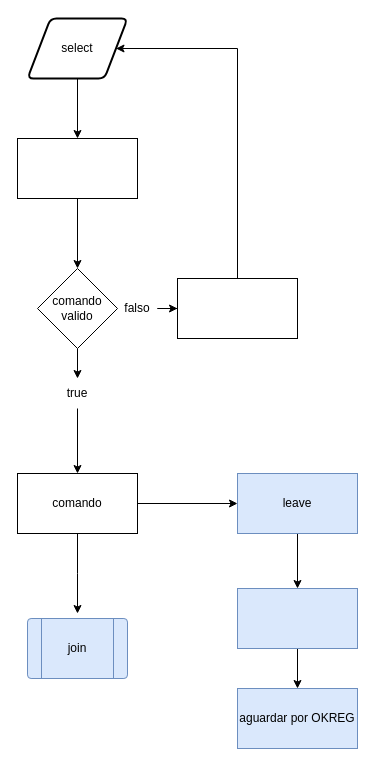
Some shapes in this 375 by 766 pixel diagram are drawn without their labels. The centre of each missing label's shape, as x and y in pixels:
"identificação do rfds" belongs at pixel 77 168.
"mensagem informativa" belongs at pixel 237 308.
"UNREG" belongs at pixel 297 618.
